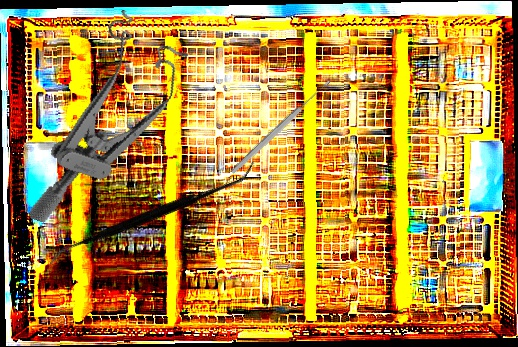Spatula Surgical: (48, 98, 256, 328)
Speculum: (28, 2, 195, 250)
Surgical Spoon: (229, 78, 333, 176)
